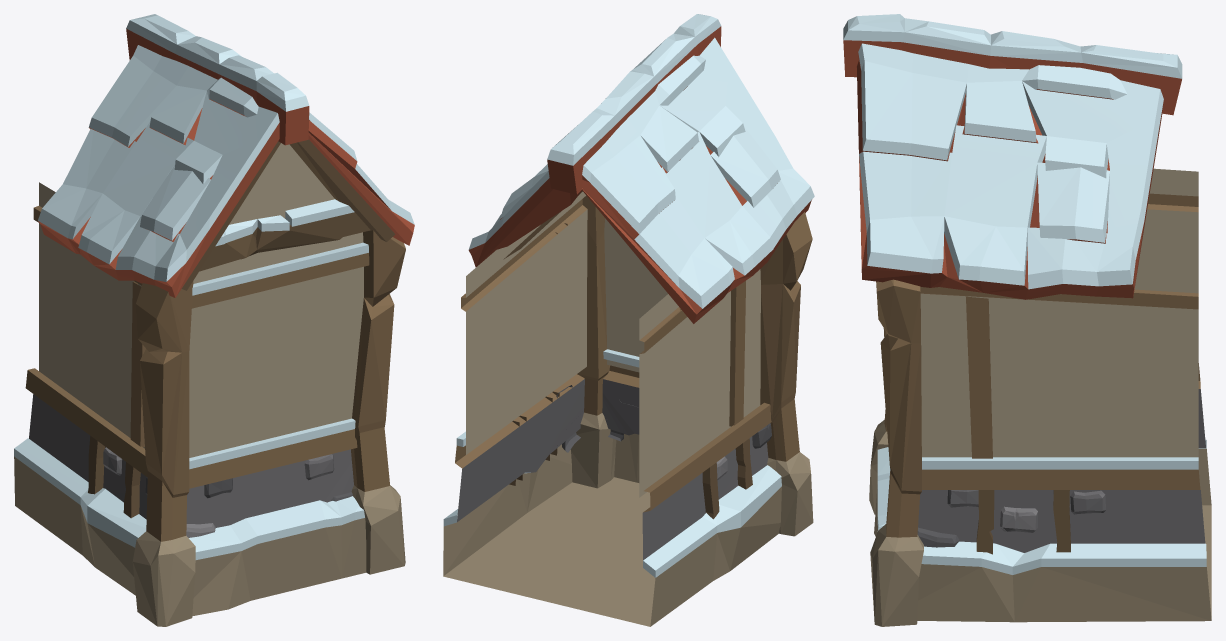
File: SM_Bld_House_Extension_01_Snow.gltf
3 renders of one model, left to right at view 1: azimuth 30°, elevation 25°; view 2: azimuth 150°, elevation 25°; view 3: azimuth 270°, elevation 25°, orthographic. The views are drawn at different scales.
Visible parts, largest first — view 1: SM_Bld_House_Extension_01_Snow; view 2: SM_Bld_House_Extension_01_Snow; view 3: SM_Bld_House_Extension_01_Snow.
Boxes of the visible parts, x1,y1,x2,y2 form: SM_Bld_House_Extension_01_Snow: (14, 14, 414, 626); SM_Bld_House_Extension_01_Snow: (443, 14, 814, 626); SM_Bld_House_Extension_01_Snow: (843, 14, 1211, 626).
Size of the model in its own units: 2.14 by 4.01 by 2.47.
1 material, 1 textured.
